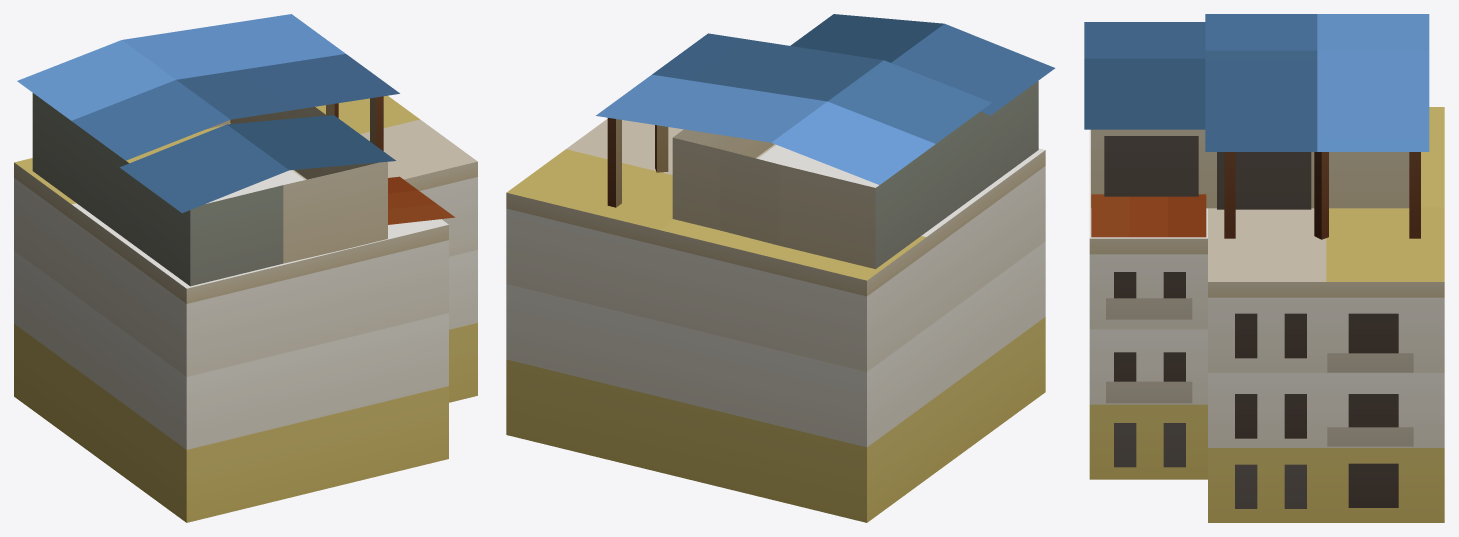
File: SM_City_Building_07.fbx
The picture shows the model from 3 angles, left to right: view 1: azimuth 30°, elevation 25°; view 2: azimuth 150°, elevation 25°; view 3: azimuth 270°, elevation 25°; orthographic projection. The views are drawn at different scales.
Parts seen in each view (by area): view 1: SM_City_Building_07; view 2: SM_City_Building_07; view 3: SM_City_Building_07.
Part boxes in pixels (left/top/right/bottom): SM_City_Building_07: left=14, top=14, right=477, bottom=522; SM_City_Building_07: left=506, top=14, right=1055, bottom=522; SM_City_Building_07: left=1084, top=14, right=1444, bottom=522.
Bounding box in the file's own units: 3.69 × 3.24 × 3.05.
